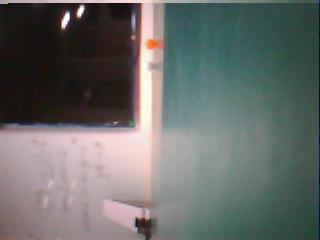oball: (144, 38, 155, 50)
